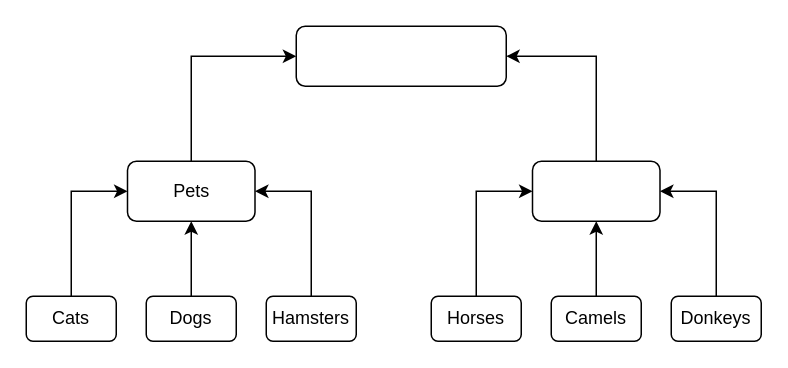
Some shapes in this 788 by 368 pixel diagram are drawn without their labels. Each missing label, with the box of its shape:
Animals (abstract): (295, 25, 506, 86)
PackAnimals: (531, 160, 660, 221)
